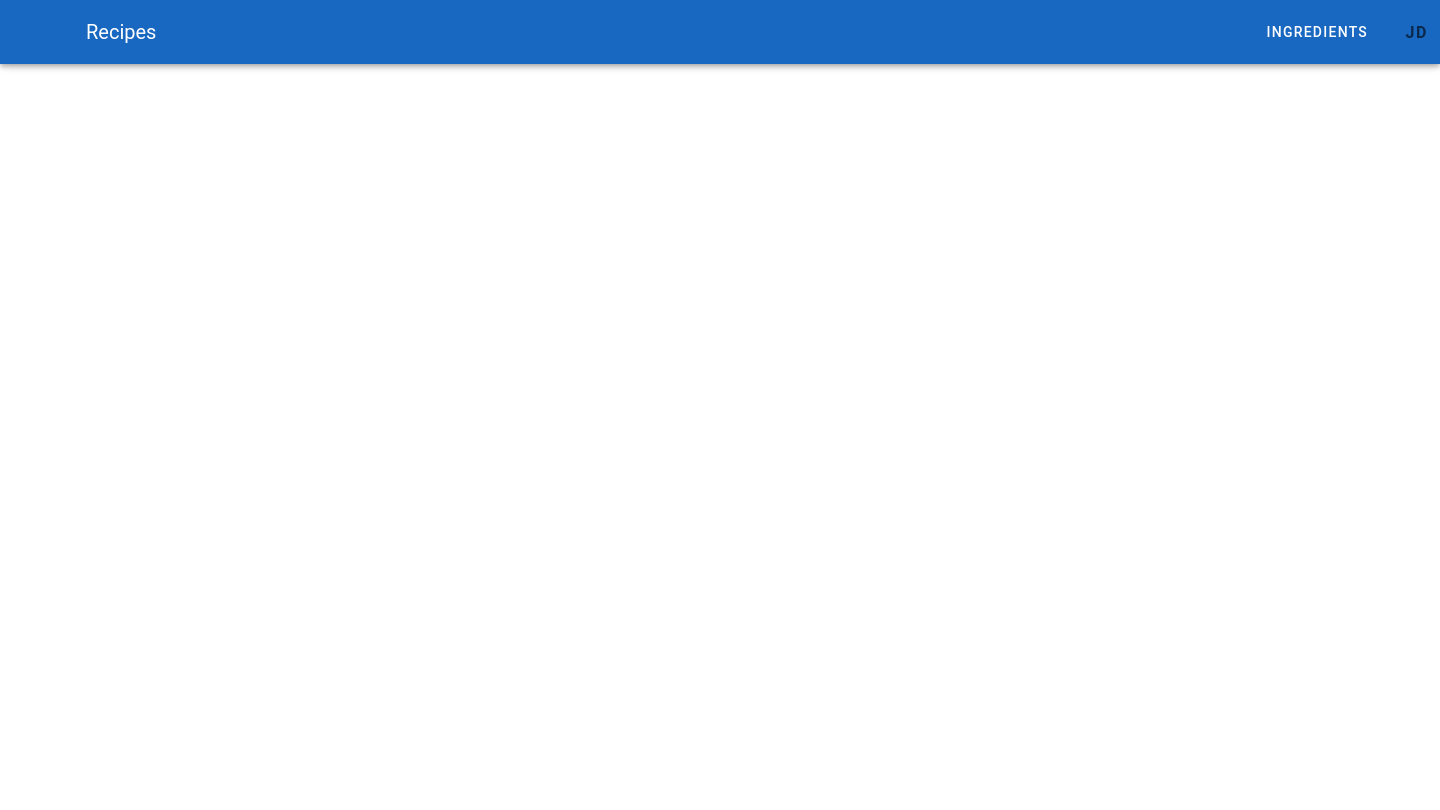
Scenario: Feature 4 — User Profile Management › US-4.3 — Log out from profile › User logs out from the profile dropdown
What coordinates should you click on to do the following:
click the button "JD"
I would click on:
 (1416, 32)
Its box is 1392,8 -> 1439,56.
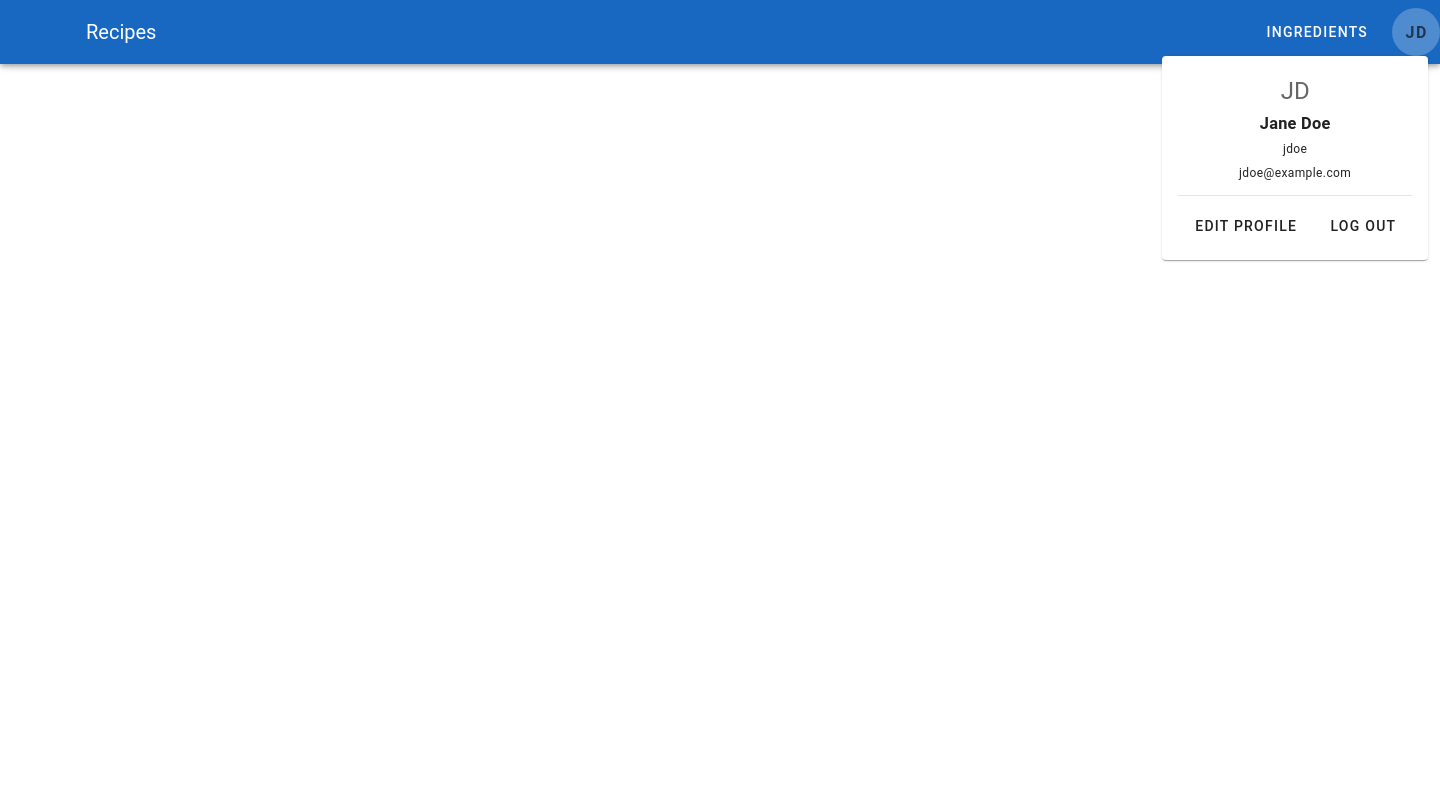
Now the button "Log out" is shown, box 1313,208 -> 1412,244
